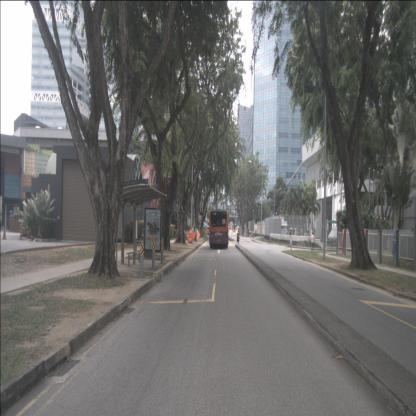cone: (18, 228, 24, 240), (2, 227, 7, 240), (27, 226, 31, 239)
